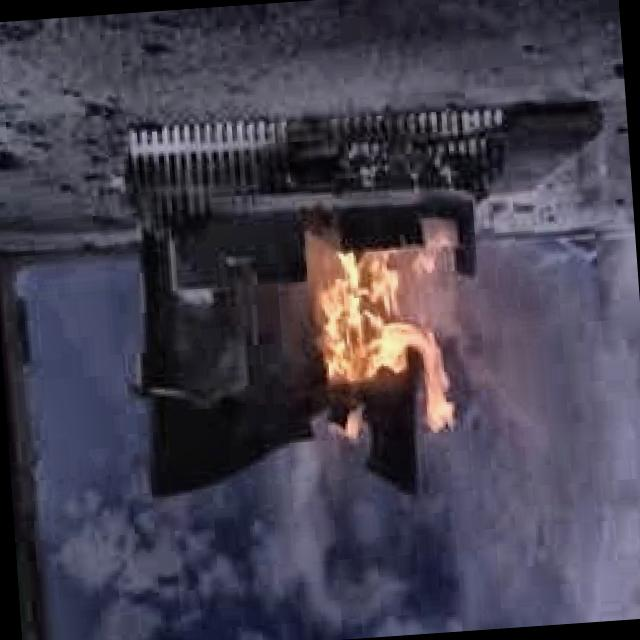fire: (271, 224, 474, 459)
